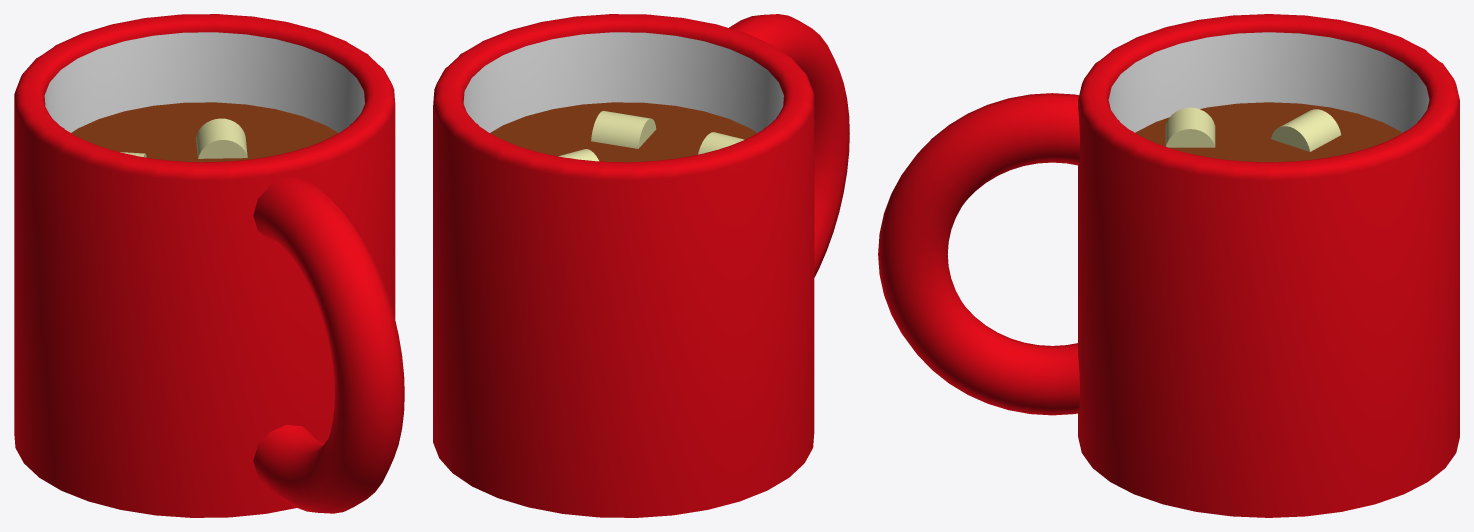
File: cup_red.glb
3 views of the same model, side by side, from view 1: azimuth 30°, elevation 25°; view 2: azimuth 150°, elevation 25°; view 3: azimuth 270°, elevation 25° (orthographic).
Visible parts, largest first — view 1: Cylinder_0, Torus_1, Cylinder.001_2, Cylinder.003_4; view 2: Cylinder_0, Cylinder.001_2, Torus_1, Cylinder.005_6, Cylinder.002_3; view 3: Cylinder_0, Torus_1, Cylinder.001_2, Cylinder.004_5, Cylinder.002_3.
Boxes of the visible parts, x1=… form: Cylinder_0: x1=14, y1=14, x2=395, y2=517; Torus_1: x1=253, y1=177, x2=404, y2=513; Cylinder.001_2: x1=71, y1=102, x2=338, y2=162; Cylinder.003_4: x1=196, y1=118, x2=247, y2=158; Cylinder_0: x1=433, y1=14, x2=814, y2=517; Cylinder.001_2: x1=490, y1=102, x2=756, y2=162; Torus_1: x1=729, y1=14, x2=849, y2=277; Cylinder.005_6: x1=591, y1=111, x2=656, y2=148; Cylinder.002_3: x1=698, y1=132, x2=744, y2=154; Cylinder_0: x1=1078, y1=14, x2=1459, y2=517; Torus_1: x1=878, y1=93, x2=1079, y2=415; Cylinder.001_2: x1=1135, y1=102, x2=1402, y2=162; Cylinder.004_5: x1=1271, y1=109, x2=1340, y2=151; Cylinder.002_3: x1=1165, y1=107, x2=1215, y2=147.
Bounding box in the file's own units: 2 × 2 × 3.05.
